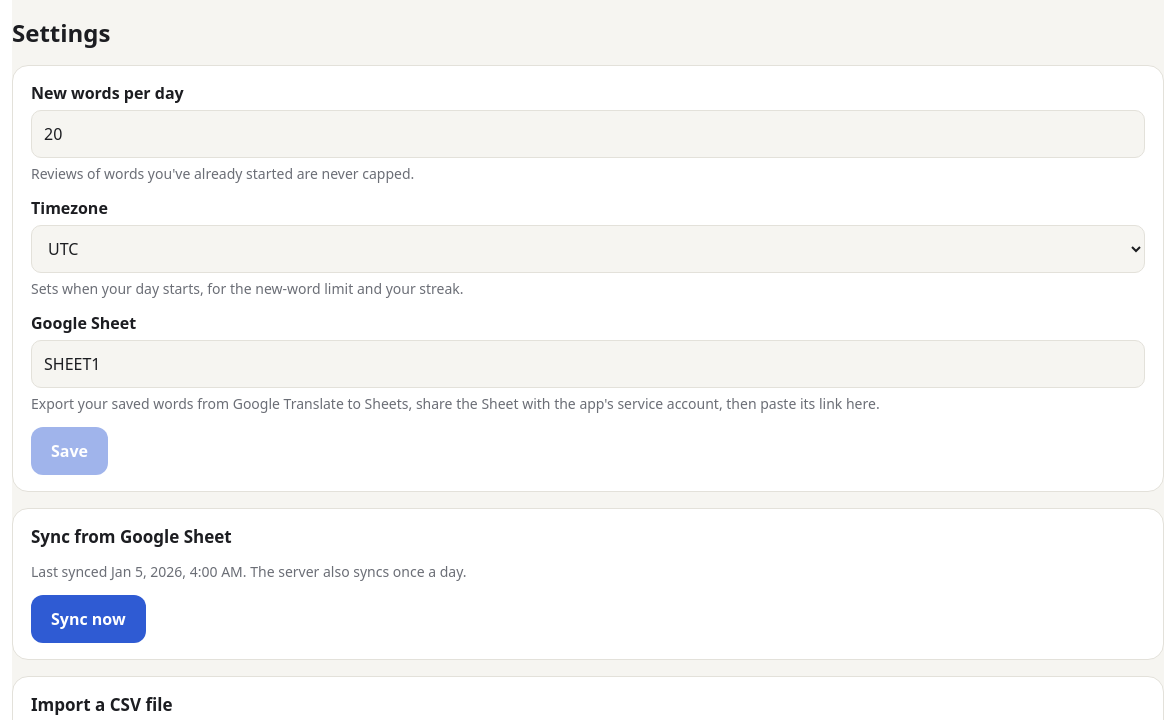
Scenario: SettingsScreen › loads, edits and saves settings
The image size is (1164, 720).
Expected: the button "Save" is disabled, 31,427 -> 108,475
Replace the text in the number field labelled "New words per day" with "10". click: (588, 134)
box: 31,110 -> 1145,158
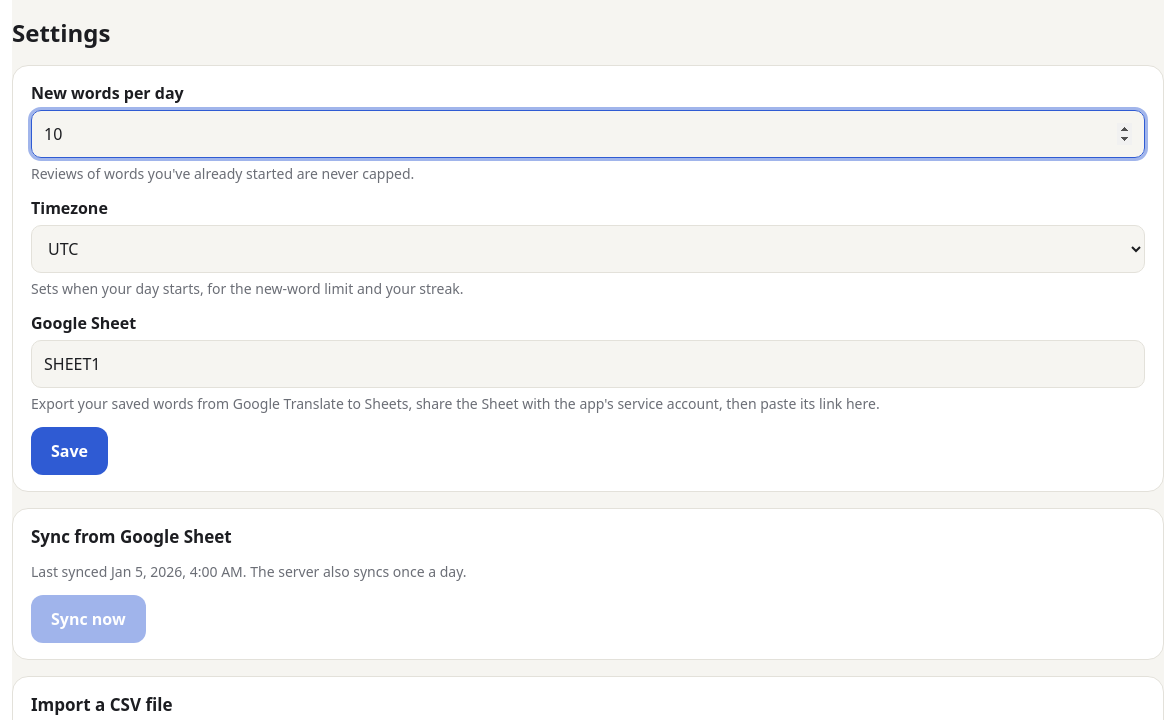
Select "Europe/Berlin" in the dropdown labelled "Timezone". click: (588, 249)
box: 31,225 -> 1145,273
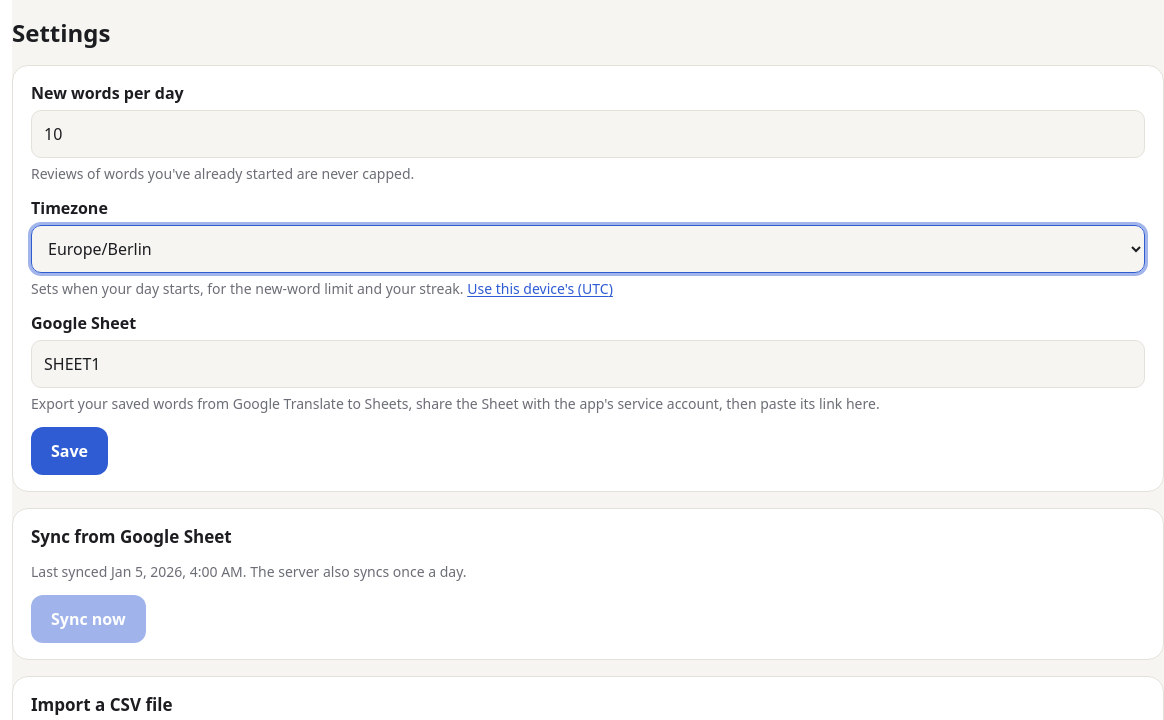
Replace the text in the field labelled "Google Sheet" with "https://docs.google.com/spreadsheets/d/NEW/edit". click: (588, 364)
box: 31,340 -> 1145,388
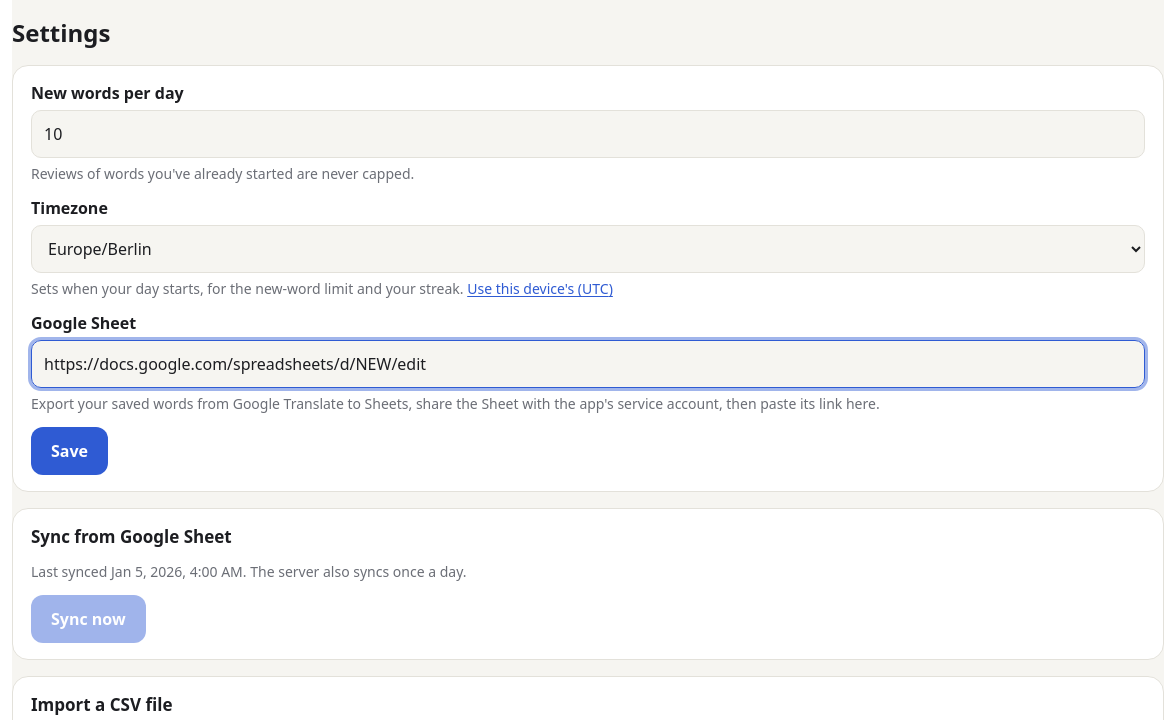
Click the button "Save". click: (70, 451)
box: 31,427 -> 108,475
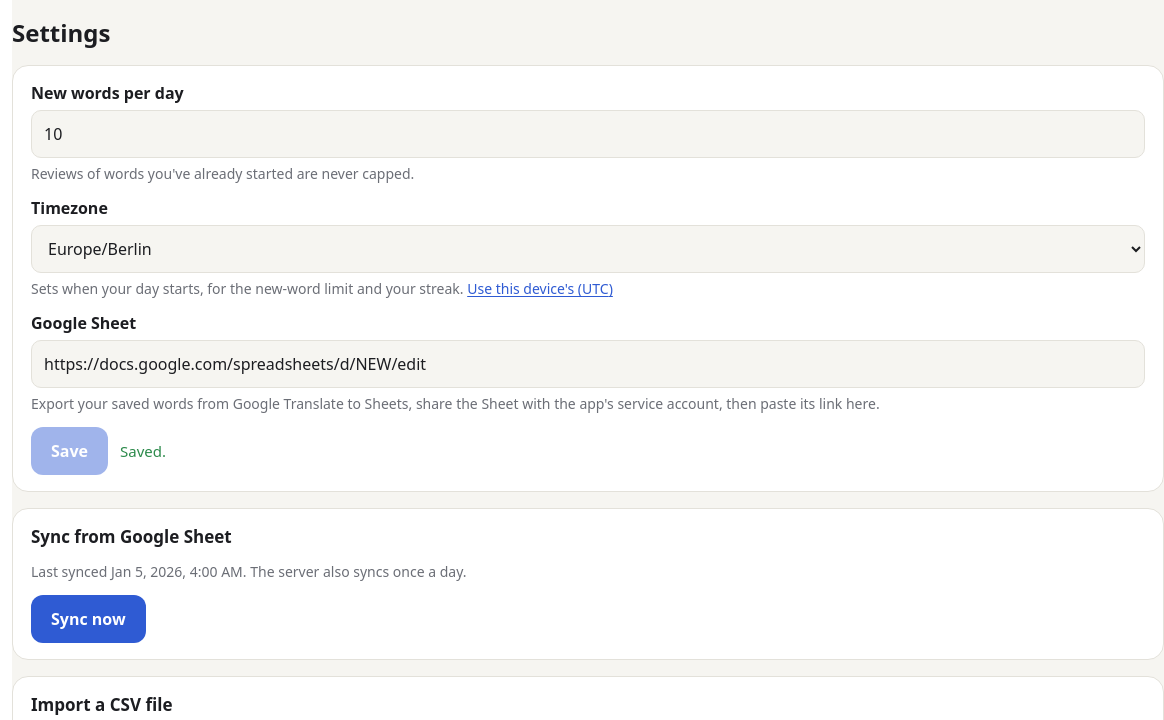
Now the text "Saved." is shown, box 120,441 -> 166,461
Now the button "Save" is disabled, box 31,427 -> 108,475
